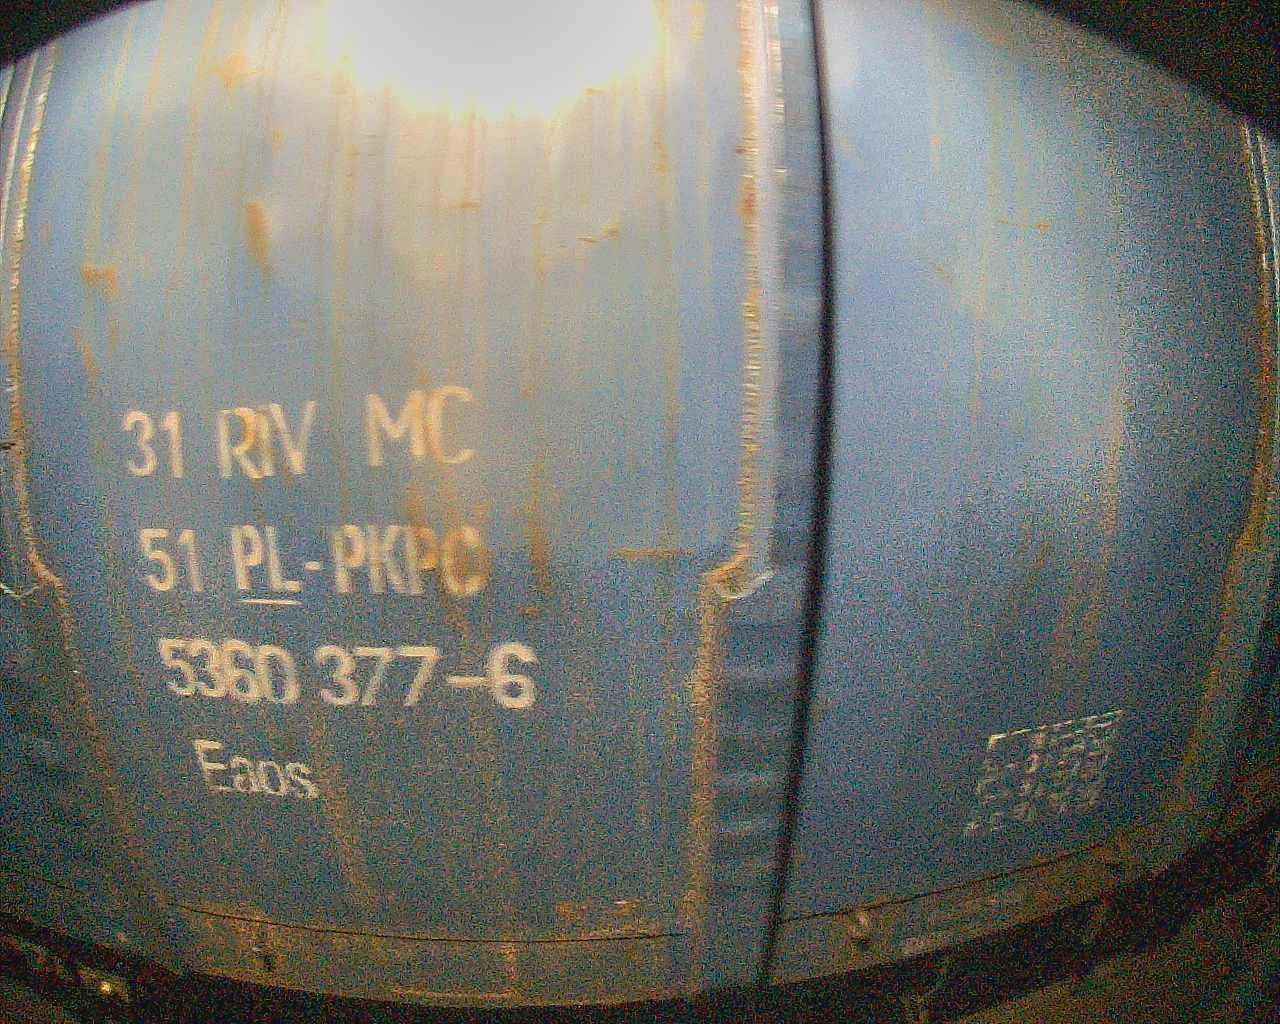UIC: (117, 378, 540, 801)
